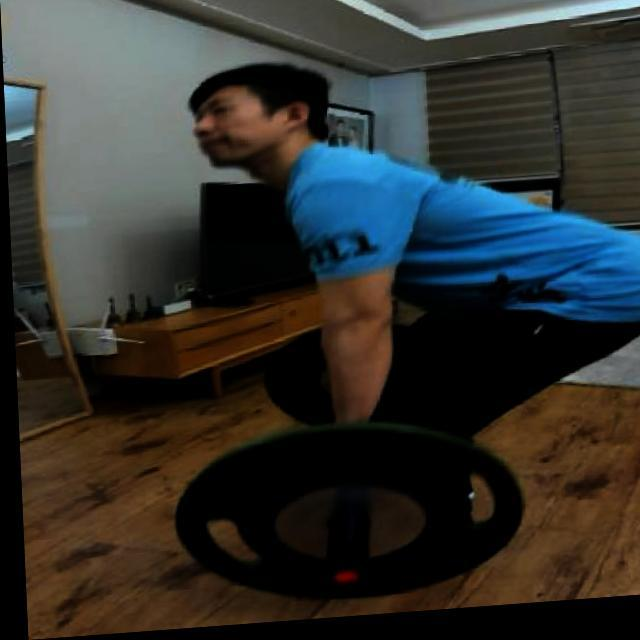barbell: (161, 409, 526, 621)
